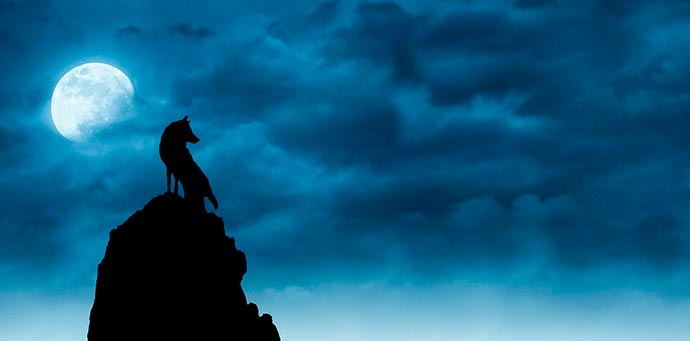Lobo: (152, 96, 236, 220)
